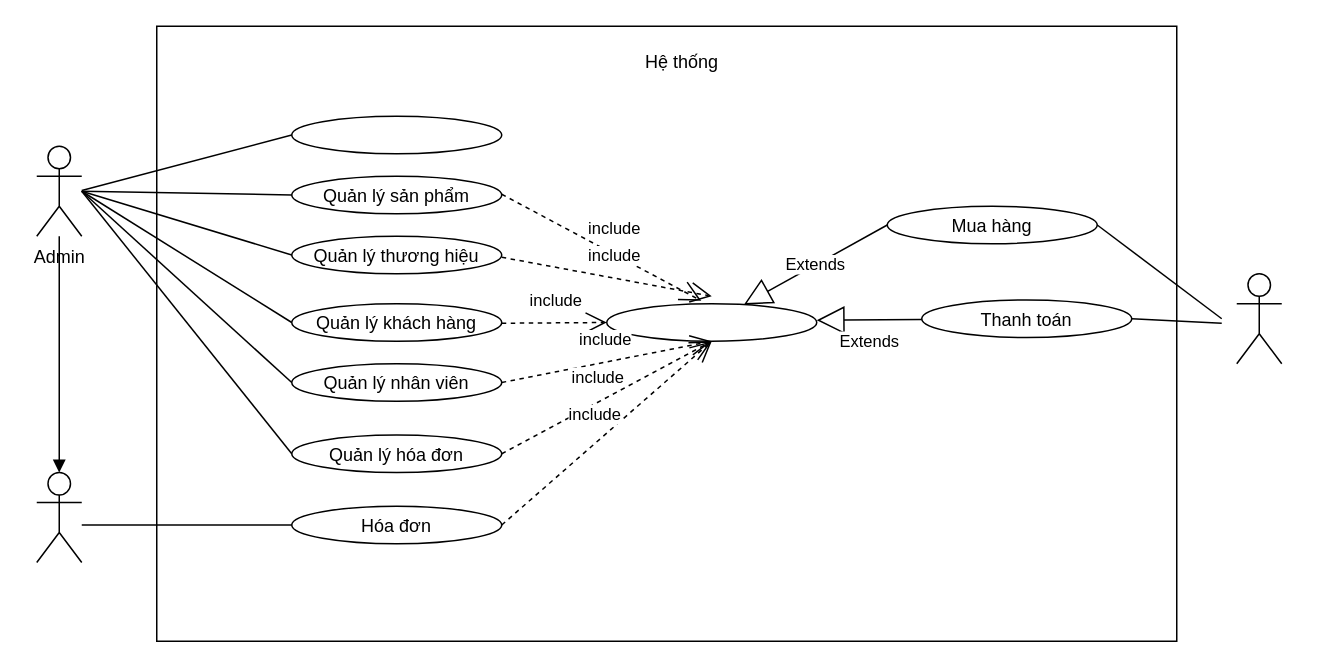
The diagram is 1323 pixels wide and 668 high, and some of its shapes have lost their labels. The centre of each missing label's shape, as x and y in pixels:
"Customer" goes at pixel 1258 318.
"Member" goes at pixel 58 516.
"Thống kê" goes at pixel 396 134.
"Đăng nhập" goes at pixel 711 321.
